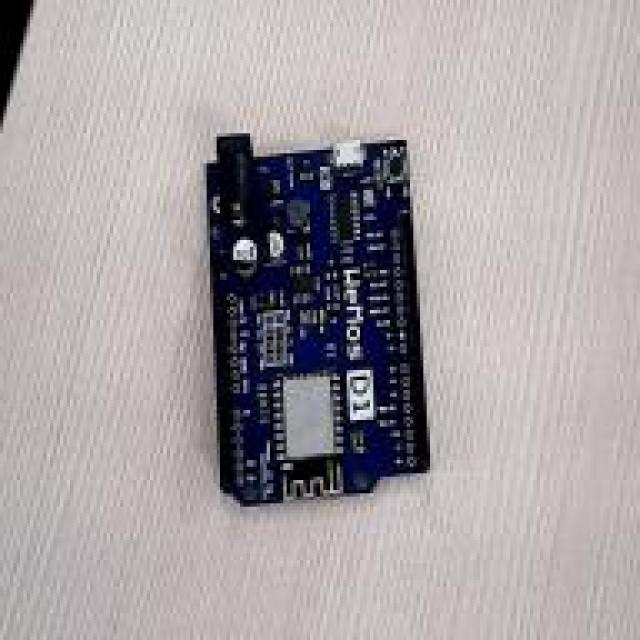Wemos: (208, 134, 424, 504)
